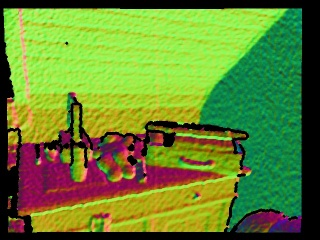station: (59, 92, 94, 163)
